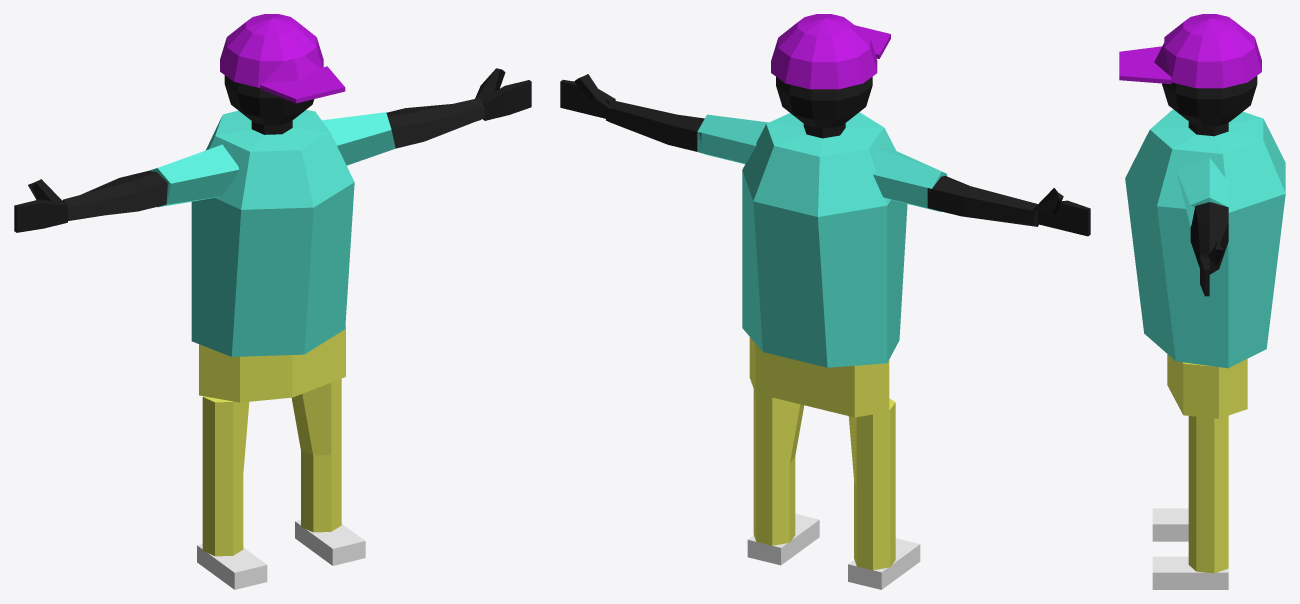
Rendered from player1.fbx.
The picture shows the model from 3 angles, left to right: view 1: azimuth 30°, elevation 25°; view 2: azimuth 150°, elevation 25°; view 3: azimuth 270°, elevation 25°; orthographic projection. The views are drawn at different scales.
Visible parts, largest first — view 1: torso, shoulders, leg_right, hips, leg_left, hat, sleeve_right, arm_right, arm_left, sleeve_left, head, foot_left (+4 smaller); view 2: torso, shoulders, leg_right, hips, leg_left, hat, arm_right, head, sleeve_right, arm_left, sleeve_left, foot_right (+3 smaller); view 3: torso, shoulders, leg_left, hat, hips, head, sleeve_left, foot_left, arm_left, hat_bill, foot_right, hand_left (+1 smaller).
Part boxes in pixels (<box>): torso: <box>191,182,354,356</box>; shoulders: <box>205,110,354,209</box>; leg_right: <box>202,396,249,556</box>; hips: <box>199,325,345,402</box>; leg_left: <box>291,378,341,532</box>; hat: <box>220,14,323,87</box>; sleeve_right: <box>148,144,239,207</box>; arm_right: <box>62,171,167,220</box>; arm_left: <box>386,98,484,148</box>; sleeve_left: <box>322,112,395,165</box>; head: <box>224,75,314,125</box>; foot_left: <box>295,520,365,565</box>; torso: <box>742,171,907,367</box>; shoulders: <box>742,112,896,216</box>; leg_right: <box>848,398,895,570</box>; hips: <box>749,337,889,417</box>; leg_left: <box>753,389,804,545</box>; hat: <box>771,14,877,89</box>; arm_right: <box>927,176,1038,226</box>; head: <box>776,77,872,128</box>; sleeve_right: <box>873,148,947,211</box>; arm_left: <box>606,100,704,151</box>; sleeve_left: <box>697,114,768,164</box>; foot_right: <box>848,538,920,589</box>; torso: <box>1125,178,1285,368</box>; shoulders: <box>1125,109,1285,212</box>; leg_left: <box>1188,415,1228,573</box>; hat: <box>1154,14,1261,88</box>; hips: <box>1167,354,1247,418</box>; head: <box>1162,76,1257,126</box>; sleeve_left: <box>1176,157,1228,226</box>; foot_left: <box>1152,556,1228,589</box>; arm_left: <box>1190,202,1228,274</box>; hat_bill: <box>1119,46,1171,84</box>; foot_right: <box>1152,508,1188,541</box>; hand_left: <box>1200,255,1209,296</box>.
Size of the model in its own units: 197 by 195 by 54.69.
Materials: 5 (5 with a texture image).
